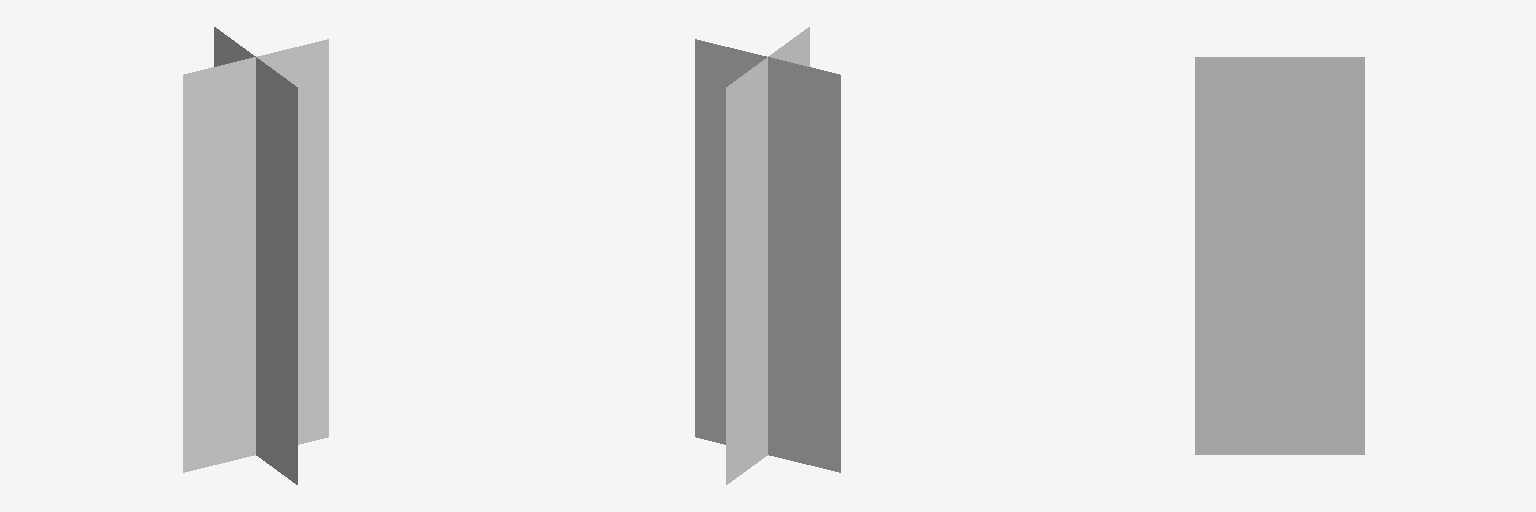
Rendered from California_Redwood_Fan_0.obj.
3 views of the same model, side by side, from view 1: azimuth 30°, elevation 25°; view 2: azimuth 150°, elevation 25°; view 3: azimuth 270°, elevation 25° (orthographic).
Visible parts, largest first — view 1: CreateFan; view 2: CreateFan; view 3: CreateFan.
Part boxes in pixels (x1,y1,x2,y2): CreateFan: (183, 27, 328, 484); CreateFan: (695, 27, 840, 484); CreateFan: (1195, 57, 1364, 454).
Size of the model in its own units: 25.11 by 65 by 25.11.